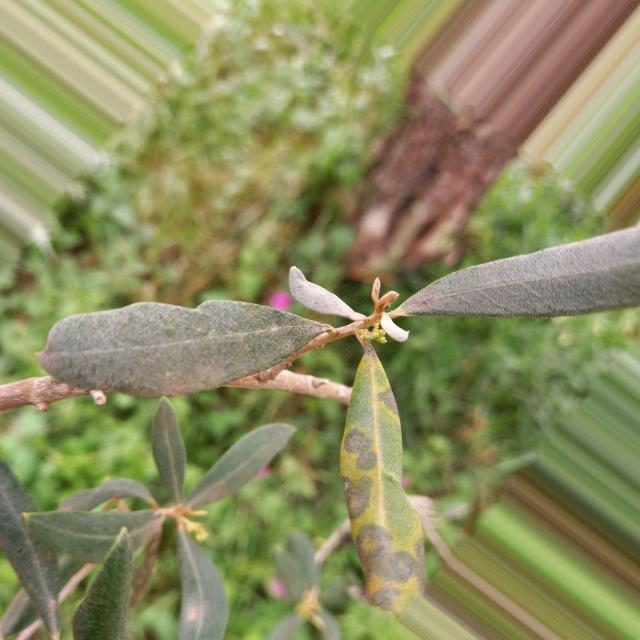OlivePeacockSpot: (340, 344, 426, 620)
